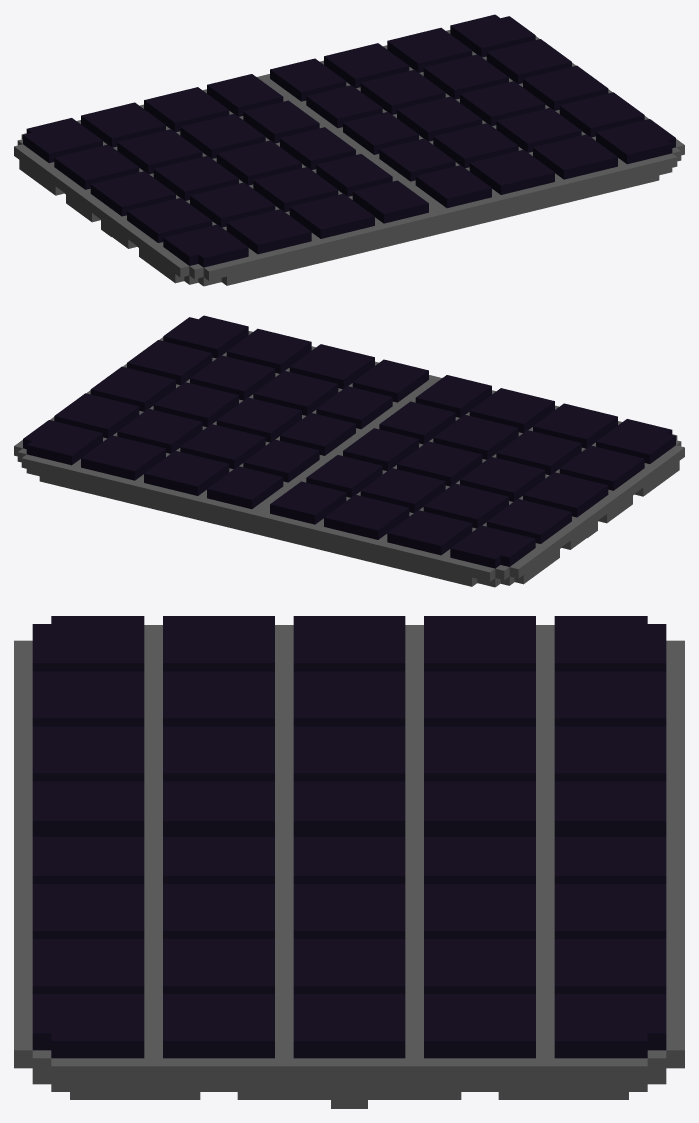
Rendered from SolarPanel0Panel.obj.
The picture shows the model from 3 angles, top to bottom: view 1: azimuth 30°, elevation 25°; view 2: azimuth 150°, elevation 25°; view 3: azimuth 270°, elevation 25°; orthographic projection. The views are drawn at different scales.
Bounding box in the file's own units: 5.6 × 0.4 × 3.6.
1 material, 1 textured.
